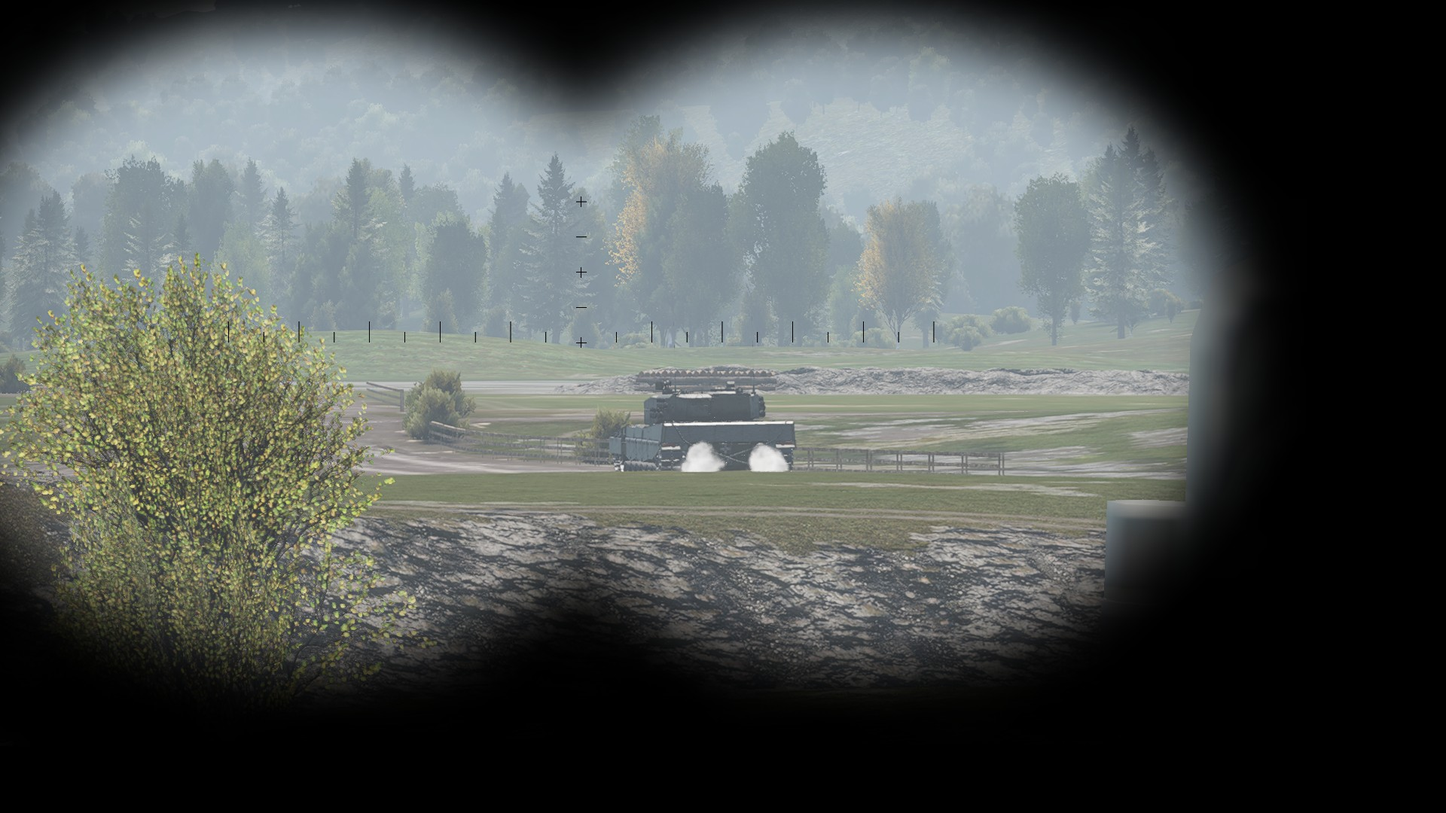leopard2: (608, 381, 797, 473)
